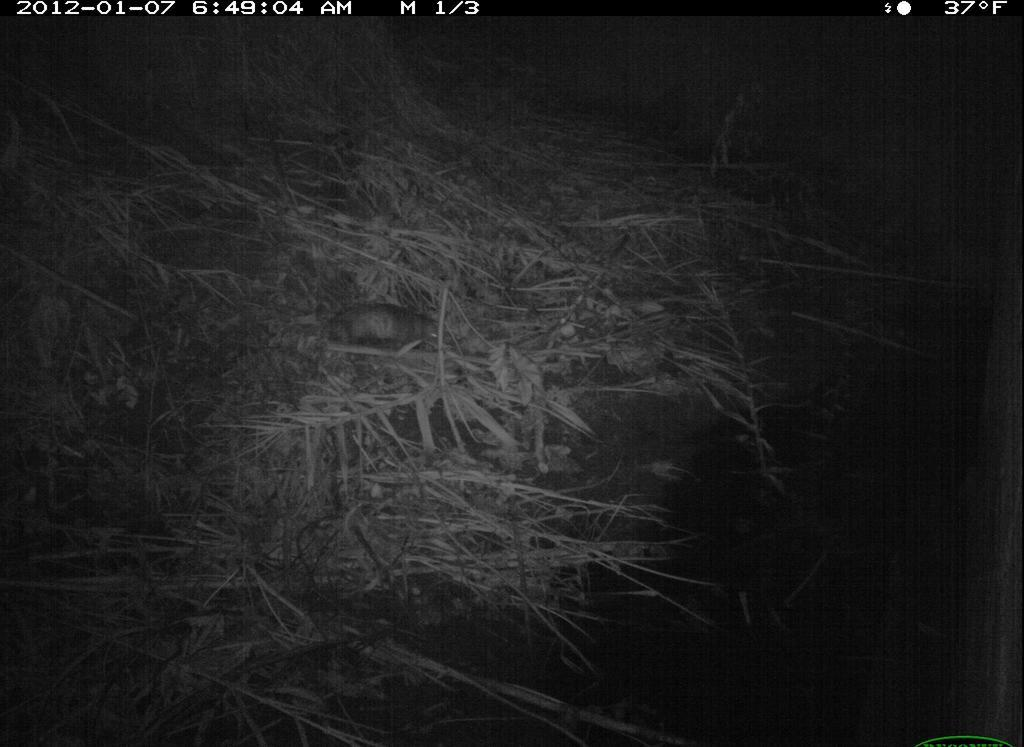opossum: (304, 292, 463, 362)
